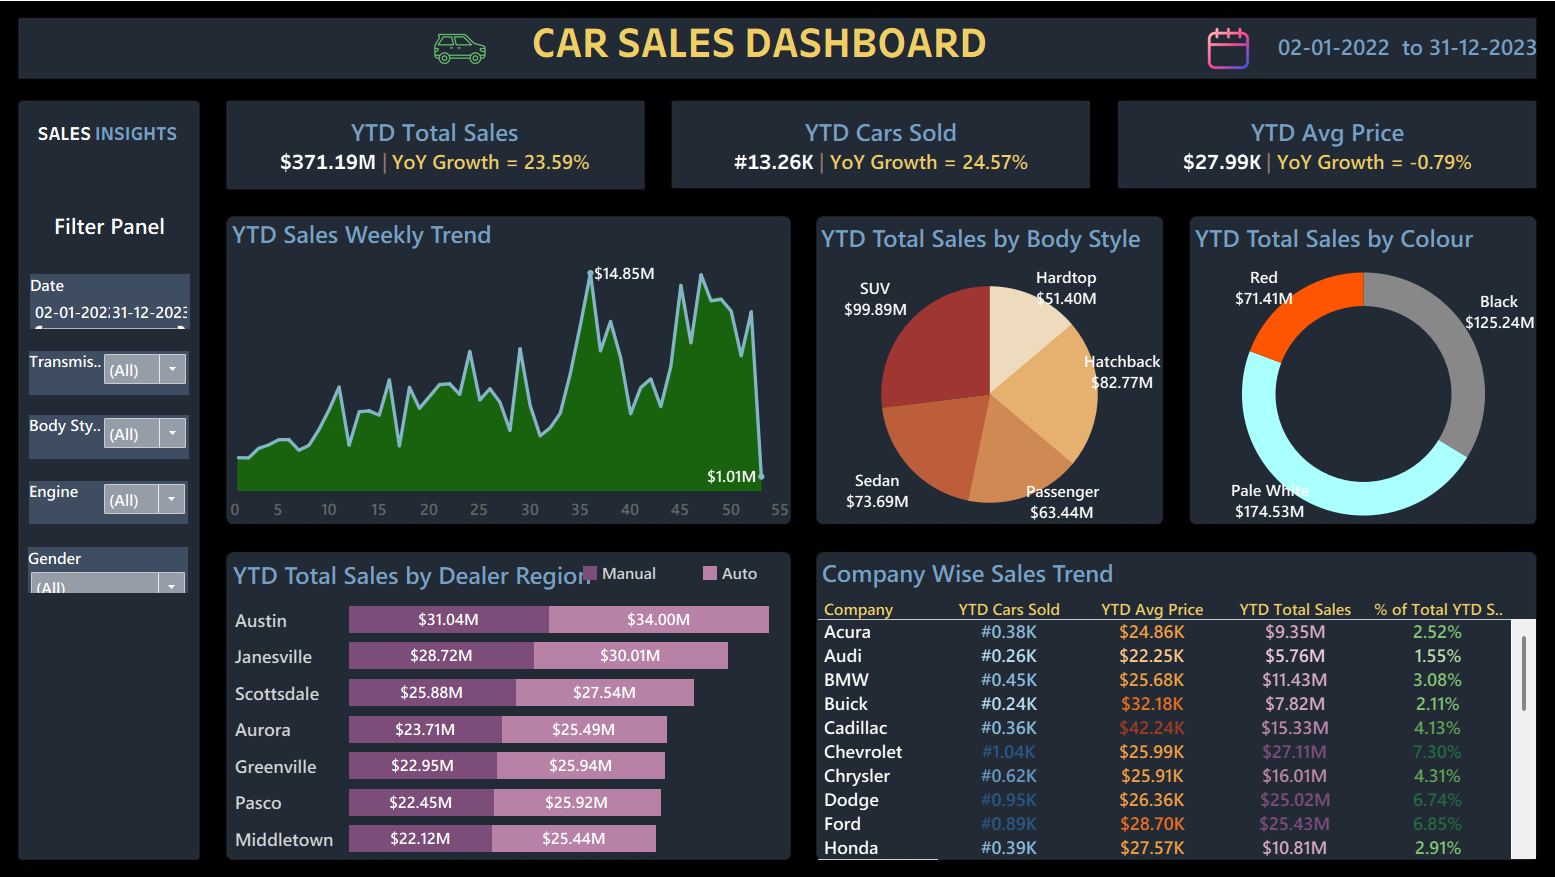

This screenshot's page, from the dashboard's own definition file:
{"tool":"tableau","page":{"name":"Sales Insights Dashboard ","canvas":[1600,900],"ordinal":1},"visuals":[{"type":"image","param":"Image/Car Sales Background.jpg","box":[8,8,1584,884]},{"type":"text","box":[533,26,497,51]},{"type":"image","param":"Image/Car Icon.png","box":[442,29,79,61]},{"type":"image","param":"Image/calendar.png","box":[1223,36,54,46]},{"type":"worksheet","title":"Date Range","mark":"Automatic","box":[1258,38,345,39]},{"type":"worksheet","title":"YTD Total Sales","mark":"Automatic","box":[249,113,417,86]},{"type":"worksheet","title":"YTD Cars Sold","mark":"Automatic","box":[695,114,418,85]},{"type":"worksheet","title":"YTD Avg Price","mark":"Automatic","box":[1140,114,420,85]},{"type":"text","box":[49,129,161,30]},{"type":"text","box":[51,221,161,30]},{"type":"worksheet","title":"YTD Sales Weekly Trend","mark":"Area","rows":["Calculation_60798597511983104","Calculation_60798597511983104"],"cols":["Date"],"box":[250,224,563,308]},{"type":"worksheet","title":"YTD Total Sales by Body Style","mark":"Pie","box":[839,228,345,308]},{"type":"worksheet","title":"YTD Total Sales by Colour","mark":"Pie","rows":["Calculation_248542407694483458","Calculation_248542407694536708"],"box":[1213,228,345,307]},{"type":"filter","title":"YTD Sales Weekly Trend","param":"[federated.1p15vuy06x2cqp12jdfdp0jlsr1l].[none:Date:qk]","box":[52,285,160,55]},{"type":"filter","title":"YTD Sales Weekly Trend","param":"[federated.1p15vuy06x2cqp12jdfdp0jlsr1l].[none:Transmission:nk]","box":[51,362,160,44]},{"type":"filter","title":"YTD Sales Weekly Trend","param":"[federated.1p15vuy06x2cqp12jdfdp0jlsr1l].[none:Body Style:nk]","box":[51,426,160,44]},{"type":"filter","title":"YTD Sales Weekly Trend","param":"[federated.1p15vuy06x2cqp12jdfdp0jlsr1l].[none:Engine:nk]","box":[51,492,159,43]},{"type":"filter","title":"YTD Sales Weekly Trend","param":"[federated.1p15vuy06x2cqp12jdfdp0jlsr1l].[none:Gender:nk]","box":[50,558,160,46]},{"type":"worksheet","title":"Company Wise Sales Trend","mark":"Automatic","rows":["Company"],"box":[840,563,718,308]},{"type":"worksheet","title":"YTD Total Sales by Dealer Region","mark":"Bar","rows":["Dealer_Region"],"cols":["Calculation_60798597511983104"],"box":[251,565,561,303]},{"type":"legend","title":"YTD Total Sales by Dealer Region","param":"[federated.1p15vuy06x2cqp12jdfdp0jlsr1l].[none:Transmission:nk]","box":[601,573,252,33]}]}

Visuals, with their boxes in screenshot pixels (x1, y1, x2, y2), scaled from the page's 1600x900 canvas onto the 1555x877 screenshot:
image: <box>8,8,1547,869</box>
text: <box>518,25,1001,75</box>
image: <box>430,28,506,88</box>
image: <box>1189,35,1241,80</box>
"Date Range" worksheet: <box>1223,37,1554,75</box>
"YTD Total Sales" worksheet: <box>242,110,647,194</box>
"YTD Cars Sold" worksheet: <box>675,111,1082,194</box>
"YTD Avg Price" worksheet: <box>1108,111,1516,194</box>
text: <box>48,126,204,155</box>
text: <box>50,215,206,245</box>
"YTD Sales Weekly Trend" worksheet (Area marks): <box>243,218,790,518</box>
"YTD Total Sales by Body Style" worksheet (Pie marks): <box>815,222,1151,522</box>
"YTD Total Sales by Colour" worksheet (Pie marks): <box>1179,222,1514,521</box>
"YTD Sales Weekly Trend" filter: <box>51,278,206,331</box>
"YTD Sales Weekly Trend" filter: <box>50,353,205,396</box>
"YTD Sales Weekly Trend" filter: <box>50,415,205,458</box>
"YTD Sales Weekly Trend" filter: <box>50,479,204,521</box>
"YTD Sales Weekly Trend" filter: <box>49,544,204,589</box>
"Company Wise Sales Trend" worksheet: <box>816,549,1514,849</box>
"YTD Total Sales by Dealer Region" worksheet (Bar marks): <box>244,551,789,846</box>
"YTD Total Sales by Dealer Region" legend: <box>584,558,829,591</box>
